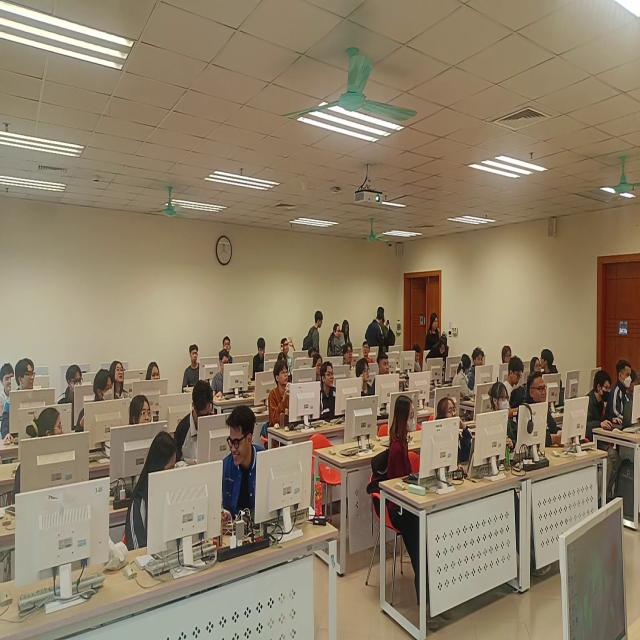raise_hand: (280, 335, 298, 378)
raise_head: (527, 373, 565, 450), (436, 398, 474, 471), (76, 370, 114, 433), (490, 382, 517, 458), (270, 361, 291, 428), (57, 365, 85, 407), (319, 362, 337, 421), (183, 345, 202, 395), (1, 364, 16, 424), (469, 347, 487, 392), (110, 362, 131, 400), (130, 395, 154, 428), (372, 354, 391, 395), (357, 358, 374, 399), (343, 343, 355, 372), (221, 337, 233, 365), (146, 361, 161, 381), (362, 343, 375, 364), (530, 356, 542, 377)
stand: (304, 311, 324, 357), (378, 307, 397, 355), (426, 332, 450, 370), (365, 313, 386, 350), (426, 313, 441, 356), (328, 324, 343, 359), (340, 320, 352, 351)
using_computer: (173, 381, 214, 467), (584, 371, 614, 443), (606, 360, 633, 431), (504, 357, 525, 405), (212, 350, 231, 399), (626, 366, 640, 416), (253, 338, 267, 381), (412, 345, 425, 372), (313, 354, 323, 383), (502, 345, 513, 365), (278, 355, 289, 368), (309, 348, 318, 359)
